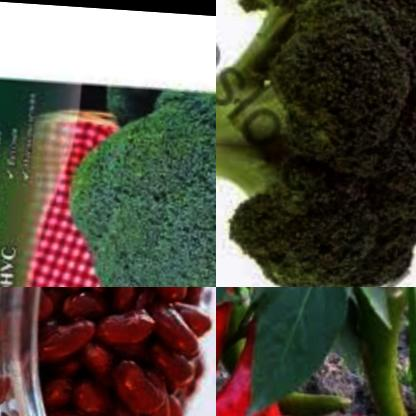beans: (40, 287, 216, 416)
broccoli: (216, 0, 416, 287), (63, 74, 216, 287)
hot pepper: (216, 294, 301, 416), (336, 287, 416, 416), (243, 367, 379, 416), (255, 363, 362, 416), (216, 287, 250, 416)
